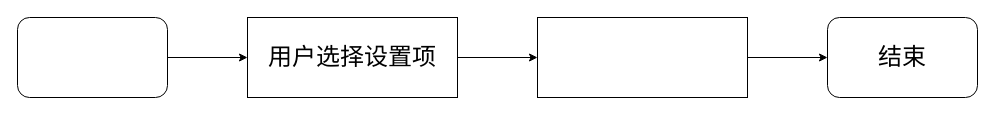
Image size: 995x115. Some labels were removed from this diagram. Here are the shapes that lost their labels. From the top down, the centre of each, then its label:
(x=92, y=57): 开始
(x=642, y=57): 保存设置并 立即生效
